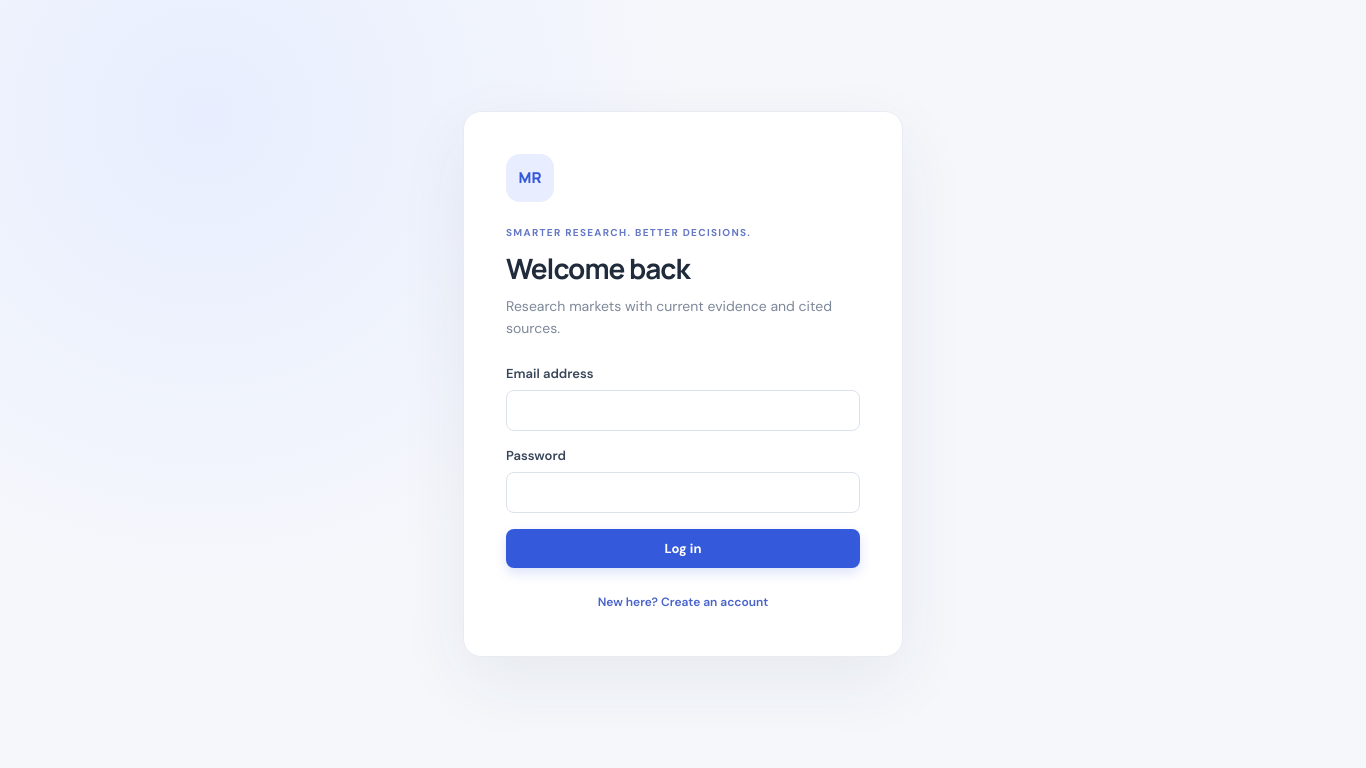
Scenario: authentication › registers with credentials and the refreshed CSRF token
This screenshot has width=1366, height=768.
Expected: the heading "Welcome back" is shown, [506, 249, 690, 287]
Click the button "New here? Create an account" at (683, 602), box [594, 590, 772, 614]
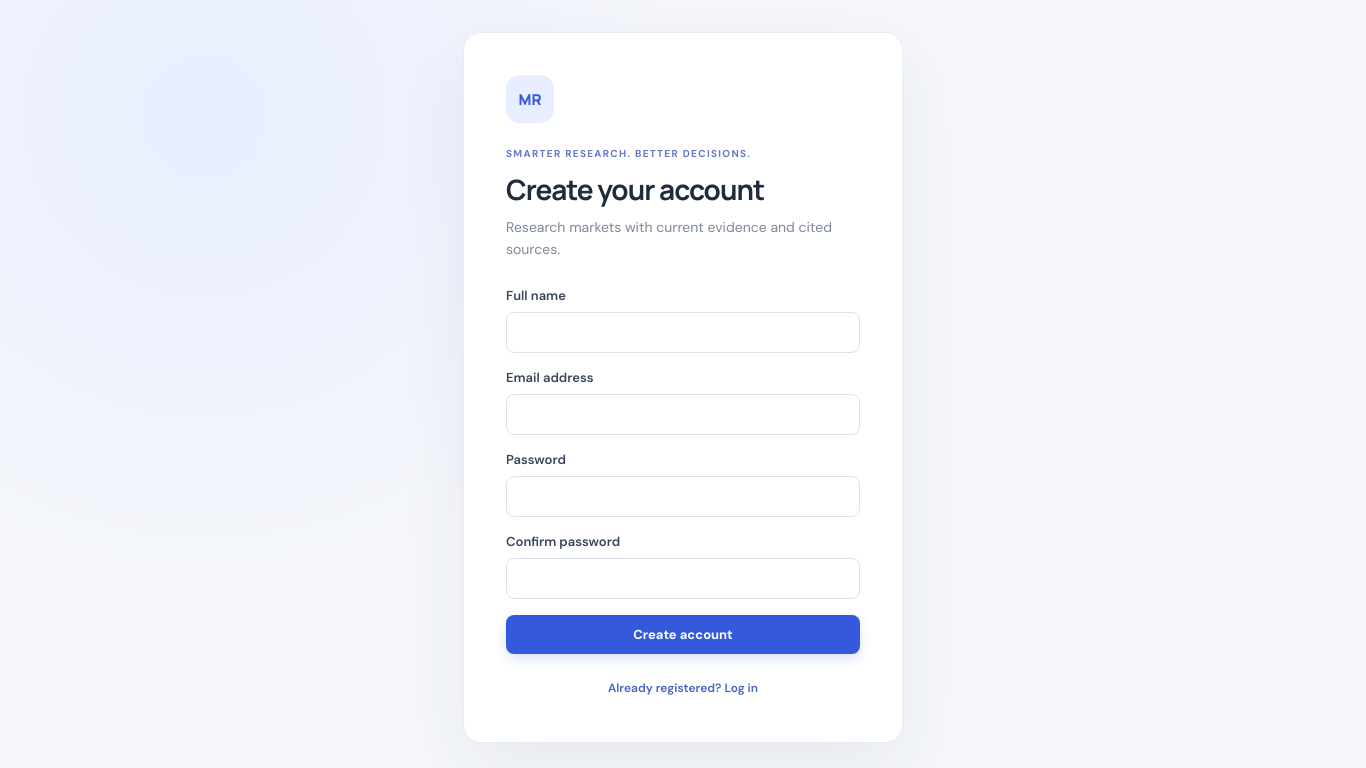
Type "New Researcher" into the field labelled "Full name" at (683, 332), box [506, 312, 860, 353]
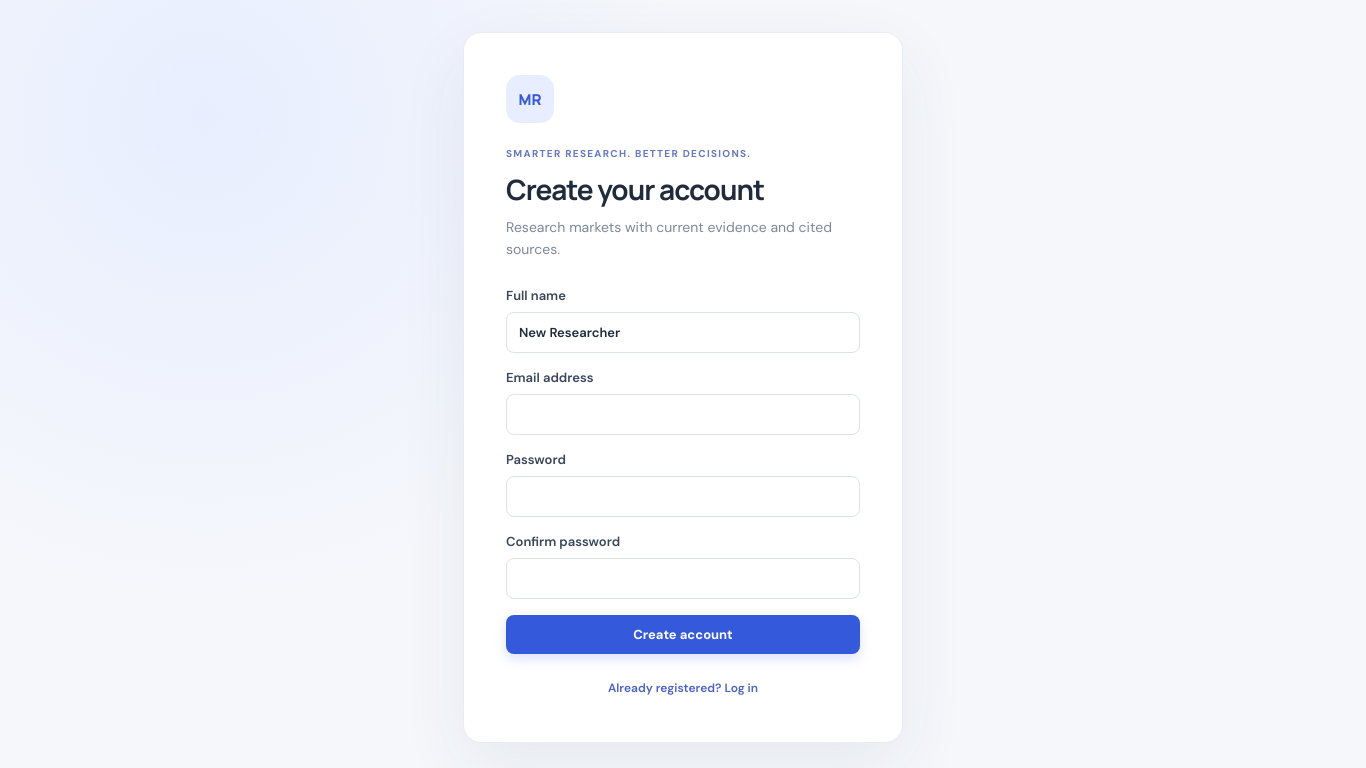
Type "new@example.com" into the field labelled "Email address" at (683, 414), box [506, 394, 860, 435]
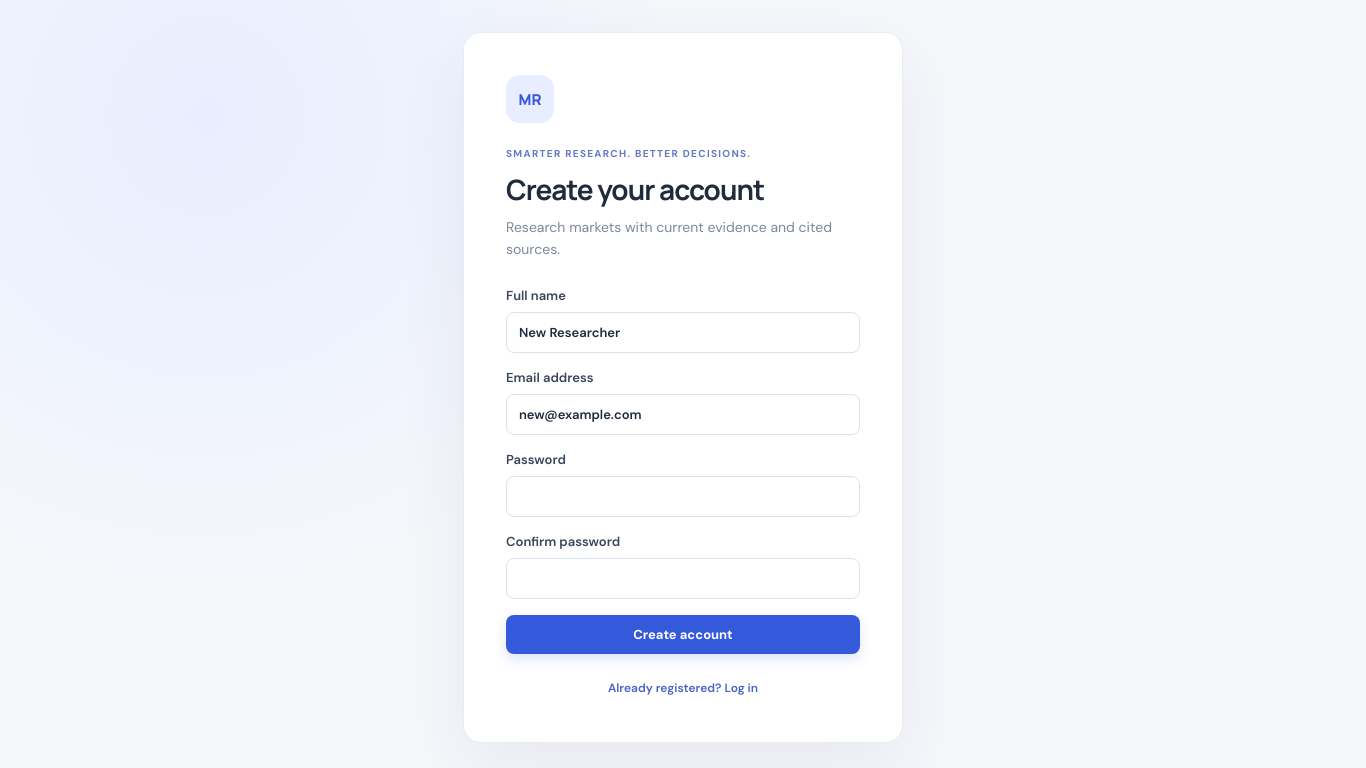
Type "a-secure-password-123" into the password field labelled "Password" at (683, 496), box [506, 476, 860, 517]
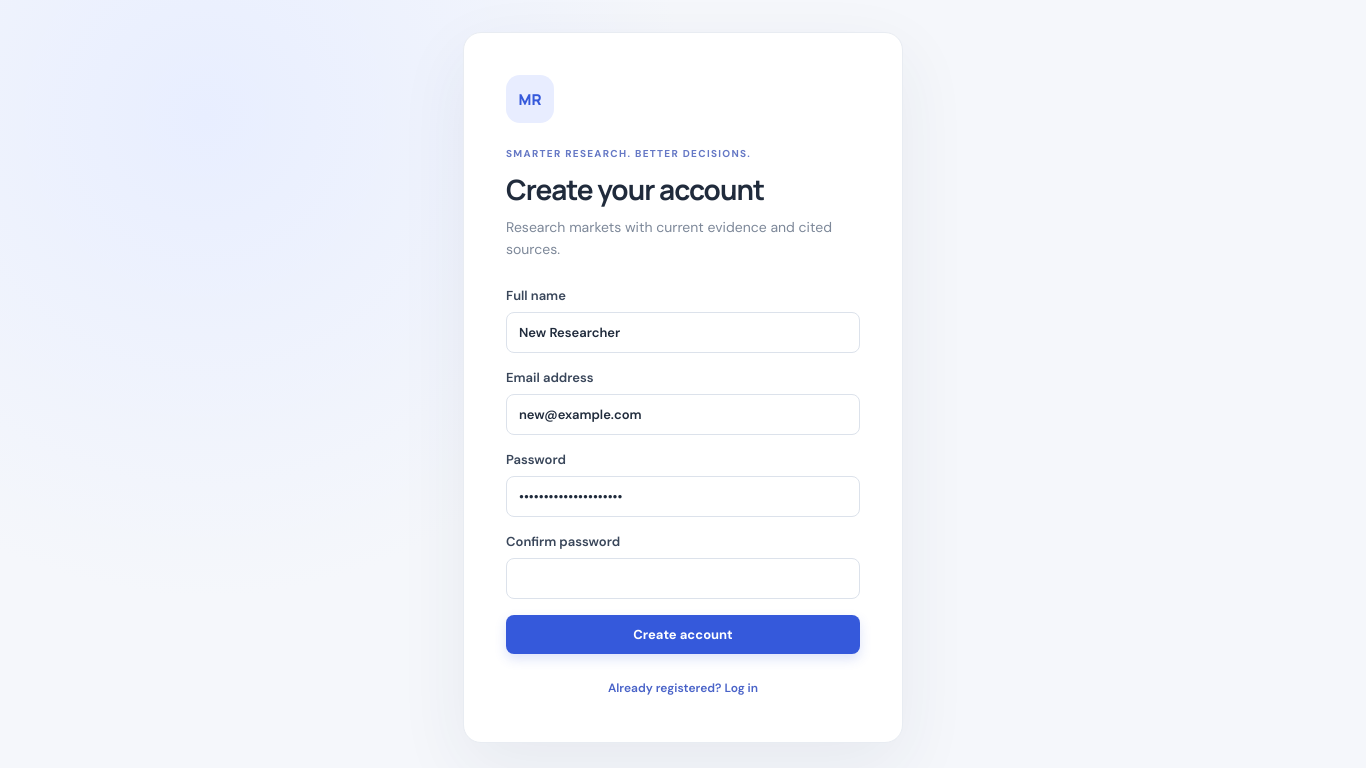
Type "a-secure-password-123" into the password field labelled "Confirm password" at (683, 578), box [506, 558, 860, 599]
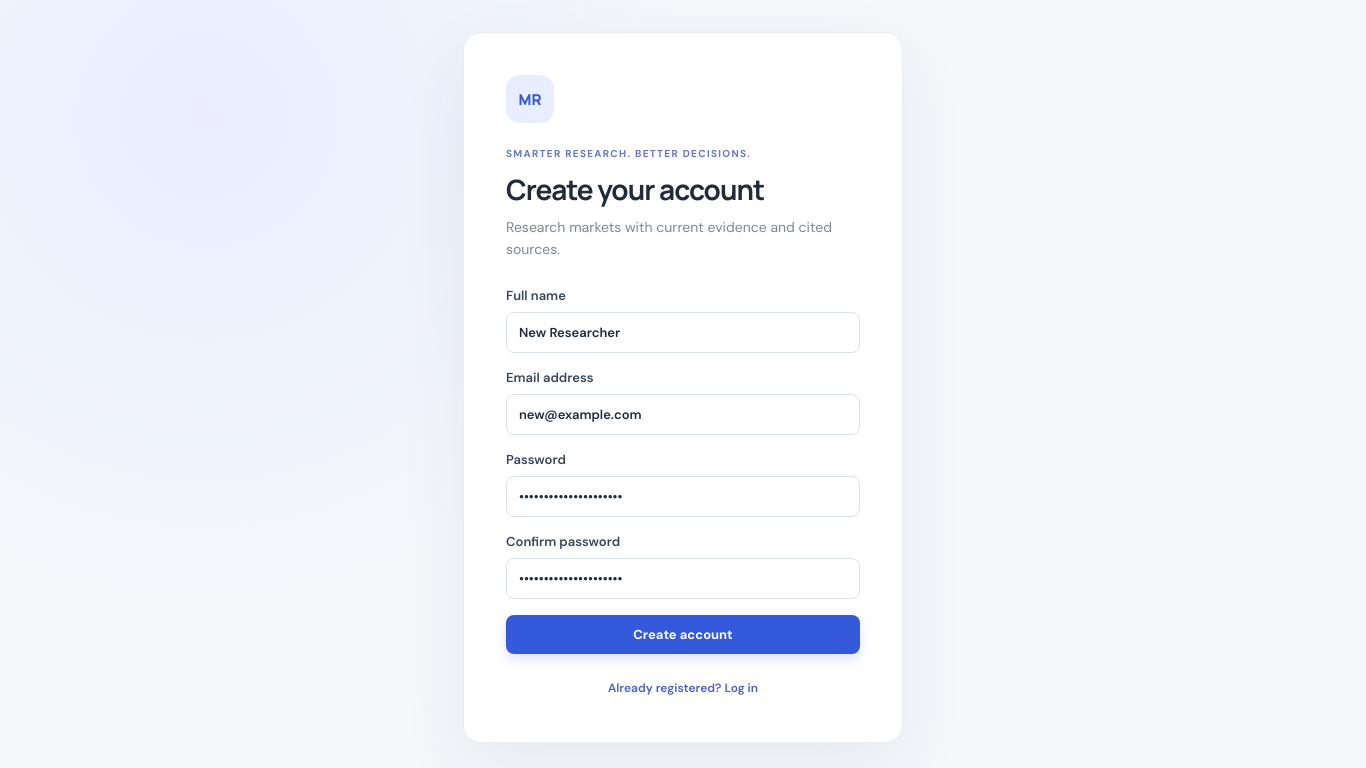
Click the button "Create account" at (683, 634), box [506, 615, 860, 654]
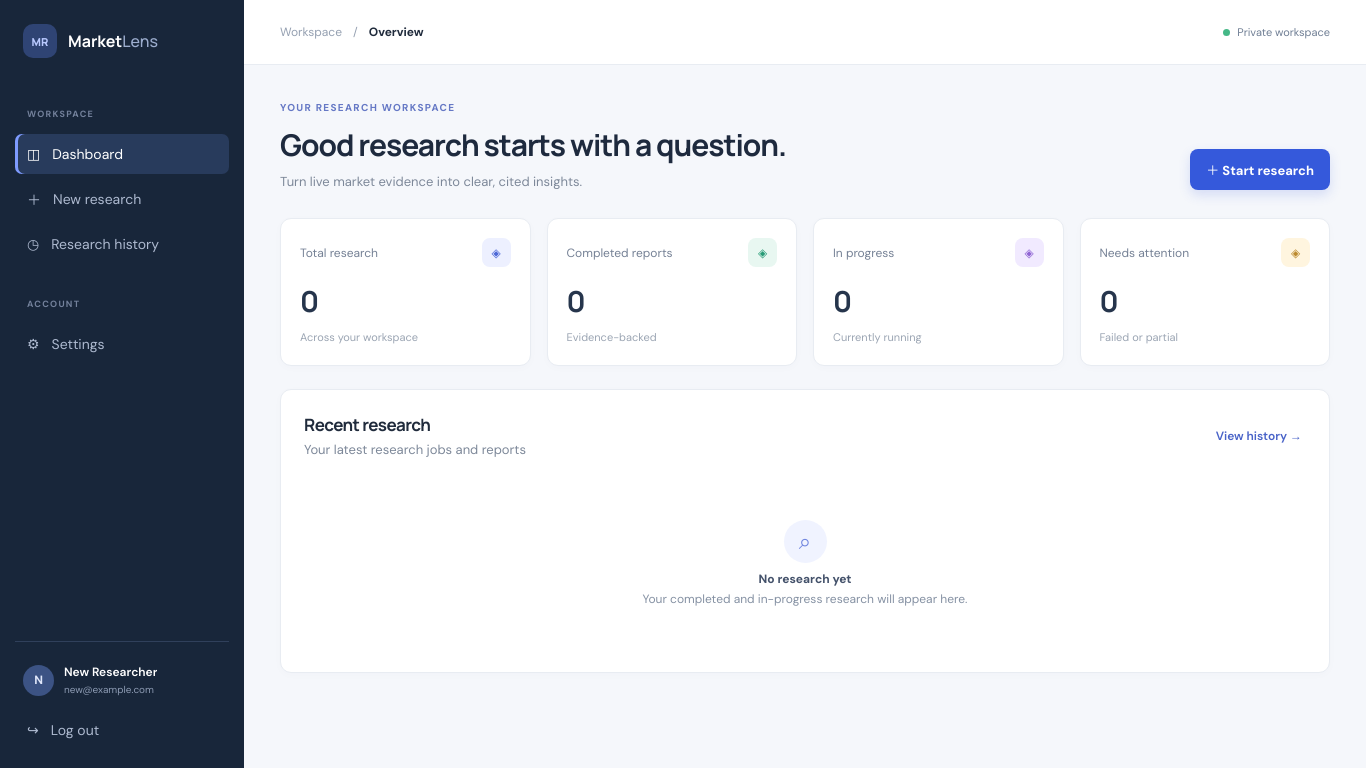
Result: the heading "Good research starts with a question." is shown at [280, 124, 786, 165]
